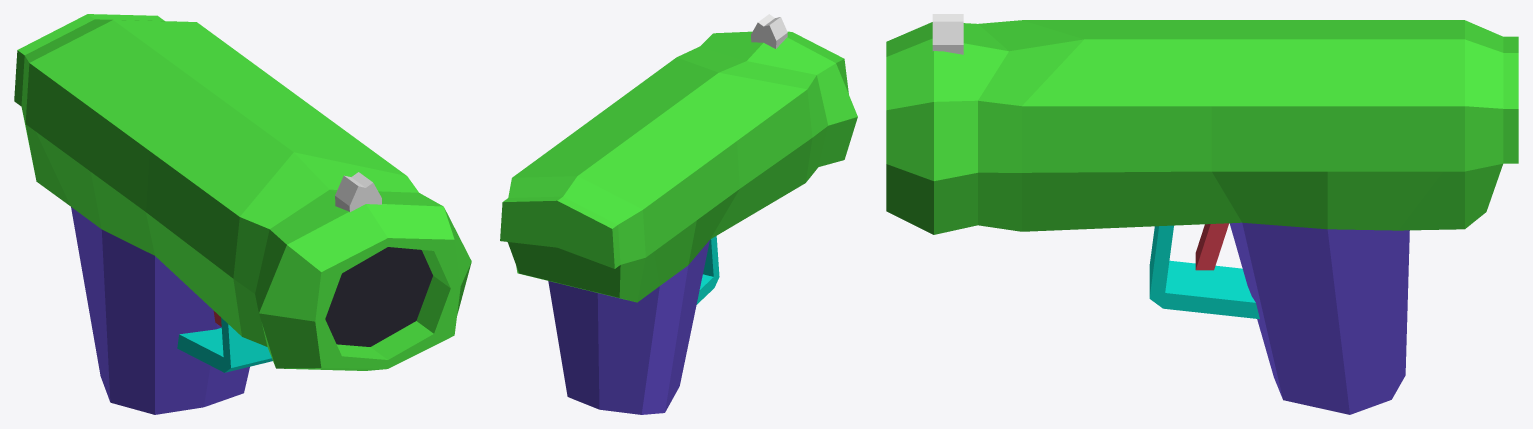
Rendered from Pistol.fbx.
3 views of the same model, side by side, from view 1: azimuth 30°, elevation 25°; view 2: azimuth 150°, elevation 25°; view 3: azimuth 270°, elevation 25° (orthographic). The views are drawn at different scales.
Parts seen in each view (by area): view 1: Cube, Cube.001, Cube.003; view 2: Cube, Cube.003, Cube.001; view 3: Cube, Cube.001, Cube.003, Cube.002.
Boxes of the visible parts, bbox=[...] form: Cube: bbox=[14, 14, 471, 414]; Cube.001: bbox=[177, 317, 272, 372]; Cube.003: bbox=[335, 172, 381, 211]; Cube: bbox=[500, 31, 857, 414]; Cube.003: bbox=[751, 14, 787, 48]; Cube.001: bbox=[696, 236, 719, 304]; Cube: bbox=[886, 20, 1518, 414]; Cube.001: bbox=[1149, 225, 1259, 319]; Cube.003: bbox=[932, 14, 963, 54]; Cube.002: bbox=[1195, 223, 1228, 270].
Bounding box in the file's own units: 254 × 411 × 621.
